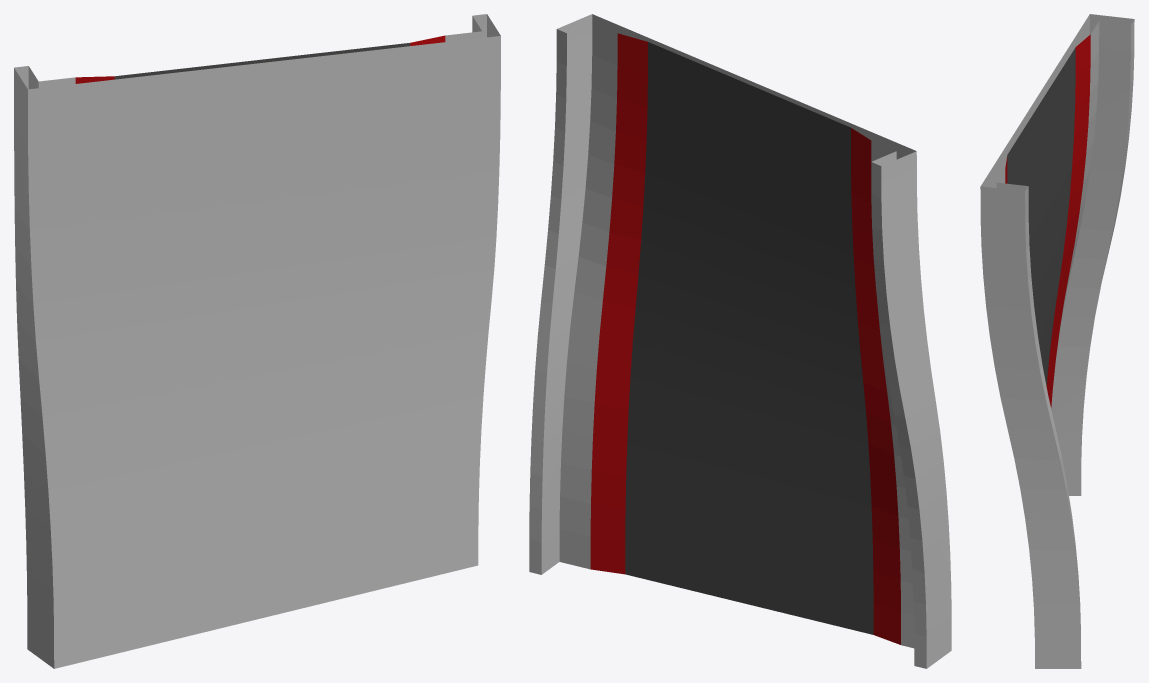
Rendered from Transition_Left_Pitch1.fbx.
3 views of the same model, side by side, from view 1: azimuth 30°, elevation 25°; view 2: azimuth 150°, elevation 25°; view 3: azimuth 270°, elevation 25° (orthographic). The views are drawn at different scales.
Visible parts, largest first — view 1: Transition_Left_Pitch1; view 2: Transition_Left_Pitch1; view 3: Transition_Left_Pitch1.
Boxes of the visible parts, bbox=[...] form: Transition_Left_Pitch1: bbox=[14, 14, 500, 668]; Transition_Left_Pitch1: bbox=[529, 14, 951, 668]; Transition_Left_Pitch1: bbox=[980, 14, 1134, 668].
Bounding box in the file's own units: 1291 × 1600 × 467.
